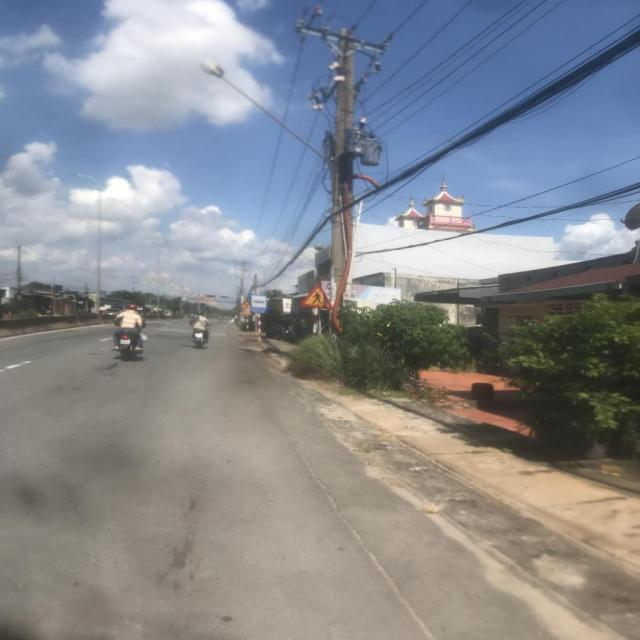chu_y_nguoi_di_bo_cat_ngang: (299, 282, 334, 310)
khac: (250, 294, 268, 314)
